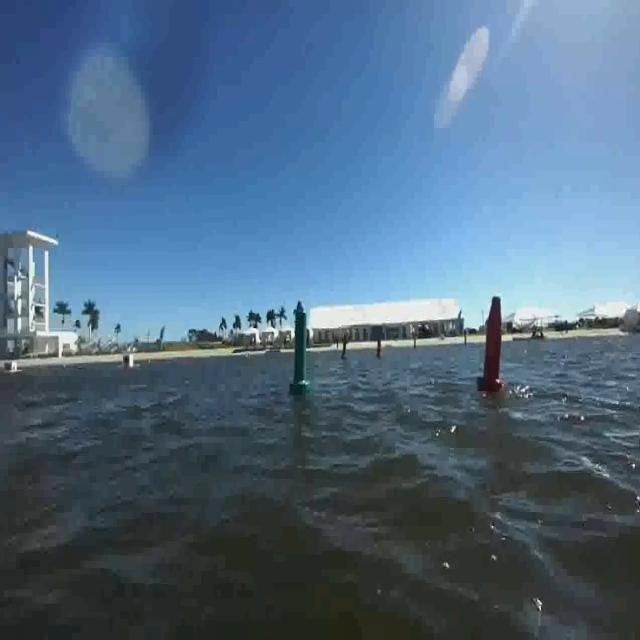green-column-buoy: (289, 303, 312, 394)
red-column-buoy: (479, 292, 506, 394), (376, 337, 385, 360)
